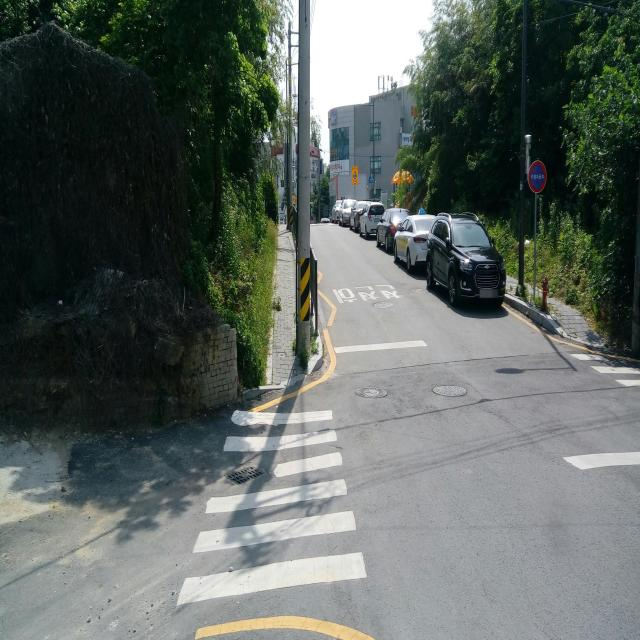횡단보도: (174, 406, 369, 609)
